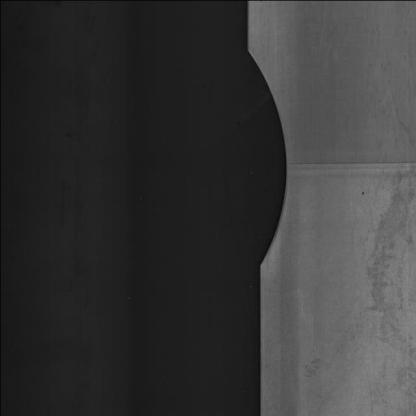crescent_gap: (226, 39, 290, 284)
welding_line: (273, 150, 416, 184)
